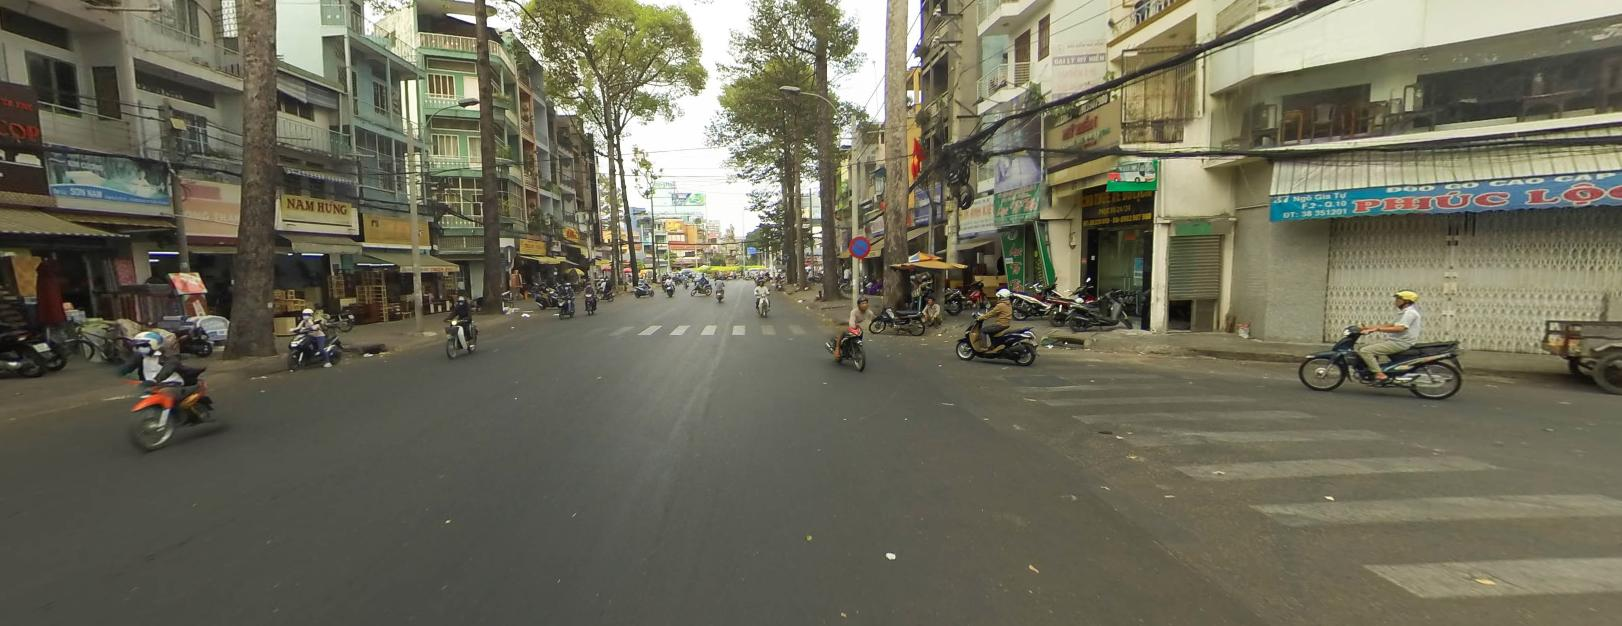Cam dung va do: (848, 235, 869, 257)
Hieu lenh: (782, 252, 789, 259)
